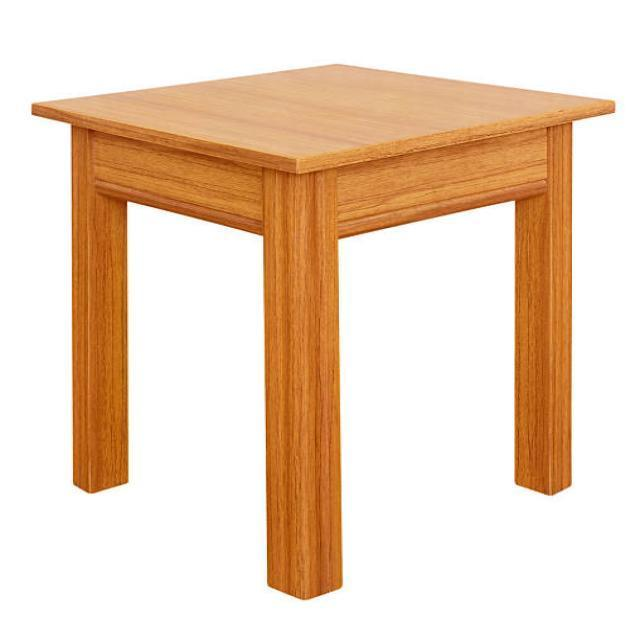table: (30, 61, 615, 600)
